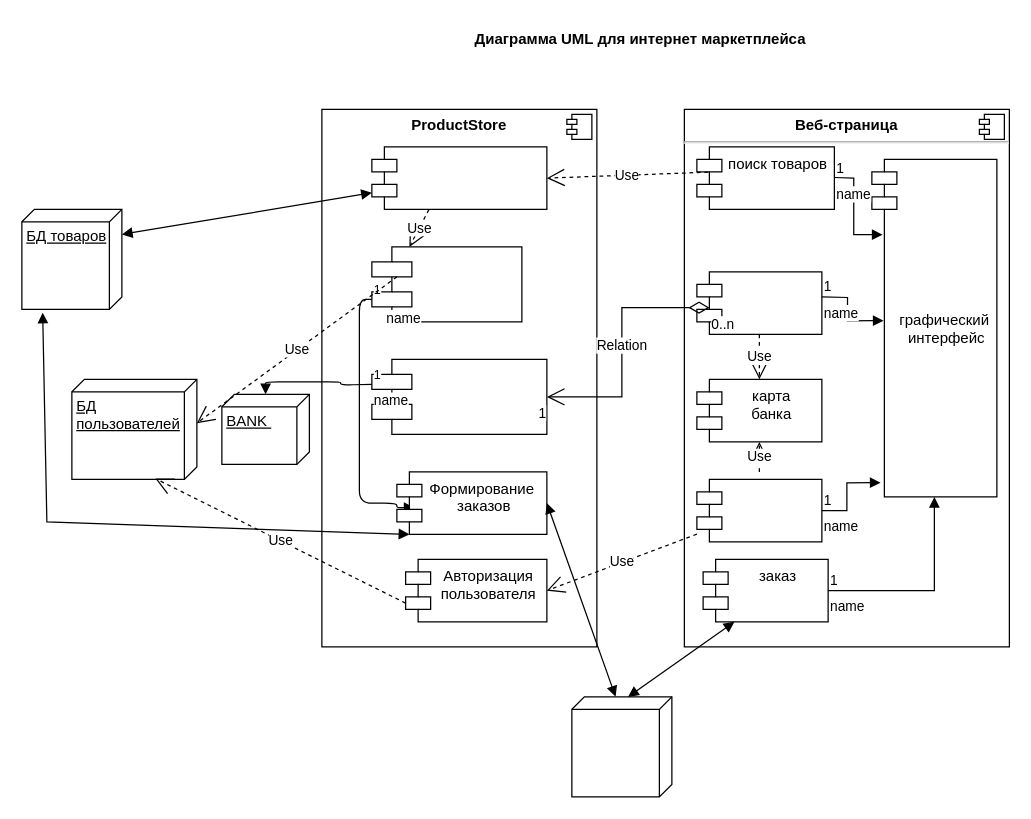
This 1031x819 diagram has some shape labels left out. The shapes that lost their labels are listed below. From the top down, each one's centre as x and y in pixels, then its label:
At (459,177): "магазины с товарами".
At (446,284): "DBConnection".
At (759,302): "оплата товаров".
At (459,396): "Продажа товаров".
At (759,510): "авторизация".
At (621,746): "БД заказов".
